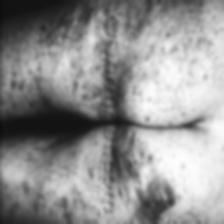Unclassified: (118, 0, 202, 224), (16, 139, 102, 224), (43, 11, 97, 98), (213, 11, 224, 70)
